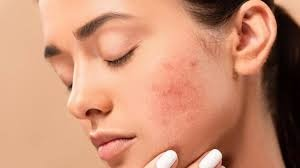Melasma: (118, 18, 274, 74)
